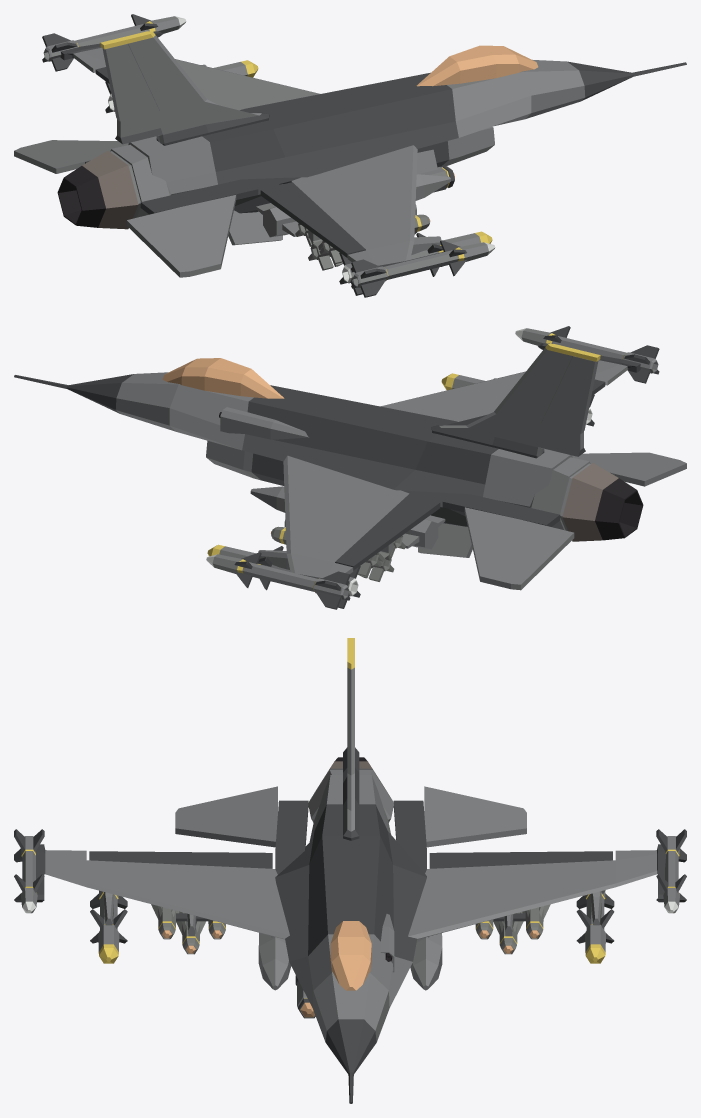
Rendered from jet.glb.
The picture shows the model from 3 angles, top to bottom: view 1: azimuth 30°, elevation 25°; view 2: azimuth 150°, elevation 25°; view 3: azimuth 270°, elevation 25°; orthographic projection. The views are drawn at different scales.
Parts seen in each view (by area): view 1: Cylinder.001_Grey_0; view 2: Cylinder.001_Grey_0; view 3: Cylinder.001_Grey_0.
Part boxes in pixels (x1=…): Cylinder.001_Grey_0: x1=14, y1=14, x2=686, y2=297; Cylinder.001_Grey_0: x1=14, y1=326, x2=686, y2=609; Cylinder.001_Grey_0: x1=14, y1=638, x2=686, y2=1103.
Size of the model in its own units: 922 by 319 by 838.
1 material, 1 textured.
